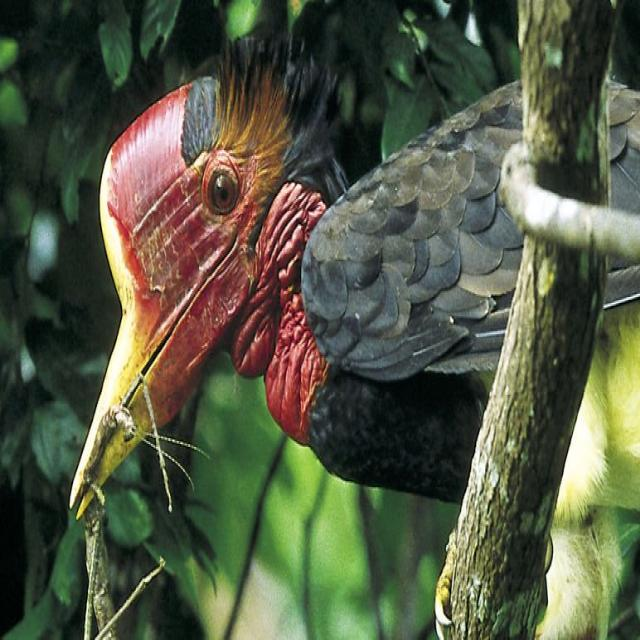Hornbill: (77, 56, 640, 562)
